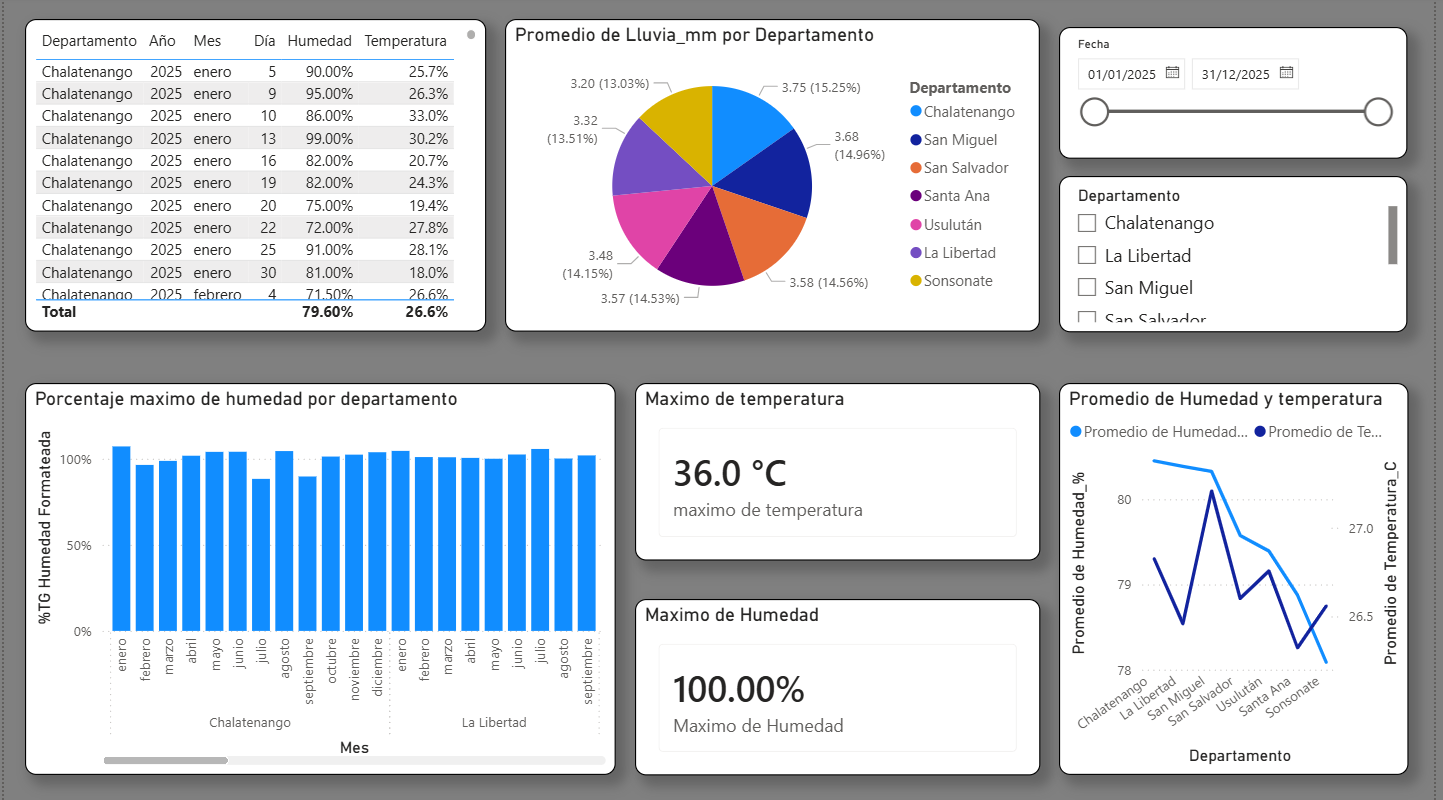

Layout of this report page (visuals, bound fields, positions):
{"tool":"powerbi","page":{"name":"Página 1","canvas":[1280,720],"ordinal":0},"visuals":[{"type":"tableEx","fields":{"Values":["datos_meteorologicos_agricolas_sv_simulados.Departamento","datos_meteorologicos_agricolas_sv_simulados.Fecha.Variación.Jerarquía de fechas.Año","datos_meteorologicos_agricolas_sv_simulados.Fecha.Variación.Jerarquía de fechas.Mes","datos_meteorologicos_agricolas_sv_simulados.Fecha.Variación.Jerarquía de fechas.Día","datos_meteorologicos_agricolas_sv_simulados.Humedad Formateada","datos_meteorologicos_agricolas_sv_simulados.temp format"]},"box":[19,20,413,280],"z":0},{"type":"pieChart","fields":{"Category":["datos_meteorologicos_agricolas_sv_simulados.Departamento"],"Y":["Avg(datos_meteorologicos_agricolas_sv_simulados.Lluvia_mm)"]},"box":[449,20,479,280],"z":1000},{"type":"slicer","fields":{"Values":["datos_meteorologicos_agricolas_sv_simulados.Fecha"]},"box":[944.8,26.9,311.6,118.2],"z":2000},{"type":"slicer","fields":{"Values":["datos_meteorologicos_agricolas_sv_simulados.Departamento"]},"box":[944.8,160.3,311.6,139.7],"z":3000},{"type":"columnChart","title":"Porcentaje maximo de humedad por departamento","fields":{"Category":["datos_meteorologicos_agricolas_sv_simulados.Departamento","datos_meteorologicos_agricolas_sv_simulados.Fecha.Variación.Jerarquía de fechas.Mes"],"Y":["datos_meteorologicos_agricolas_sv_simulados.Humedad Formateada"]},"box":[19,346,529,351],"z":4000},{"type":"cardVisual","title":"Maximo de temperatura","fields":{"Data":["datos_meteorologicos_agricolas_sv_simulados.maximo de temperatura"]},"box":[565,346,363,159],"z":5000},{"type":"cardVisual","title":"Maximo de Humedad","fields":{"Data":["datos_meteorologicos_agricolas_sv_simulados.Maximo de Humedad"]},"box":[565,539,363,158],"z":6000},{"type":"lineChart","title":"Promedio de Humedad y temperatura","fields":{"Category":["datos_meteorologicos_agricolas_sv_simulados.Departamento"],"Y":["Avg(datos_meteorologicos_agricolas_sv_simulados.Humedad_%)"],"Y2":["Avg(datos_meteorologicos_agricolas_sv_simulados.Temperatura_C)"]},"box":[944.8,345.7,312.5,351],"z":6001}]}

Visuals, with their boxes in screenshot pixels (x1, y1, x2, y2), scaled from the page's 1280x720 canvas onto the 1443x800 screenshot:
tableEx - datos_meteorologicos_agricolas_sv_simulados.Departamento x datos_meteorologicos_agricolas_sv_simulados.Fecha.Variación.Jerarquía de fechas.Año: region(21, 22, 487, 333)
pieChart - datos_meteorologicos_agricolas_sv_simulados.Departamento x Avg(datos_meteorologicos_agricolas_sv_simulados.Lluvia_mm): region(506, 22, 1046, 333)
slicer - datos_meteorologicos_agricolas_sv_simulados.Fecha: region(1065, 30, 1416, 161)
slicer - datos_meteorologicos_agricolas_sv_simulados.Departamento: region(1065, 178, 1416, 333)
"Porcentaje maximo de humedad por departamento" columnChart: region(21, 384, 618, 774)
"Maximo de temperatura" cardVisual: region(637, 384, 1046, 561)
"Maximo de Humedad" cardVisual: region(637, 599, 1046, 774)
"Promedio de Humedad y temperatura" lineChart: region(1065, 384, 1417, 774)
